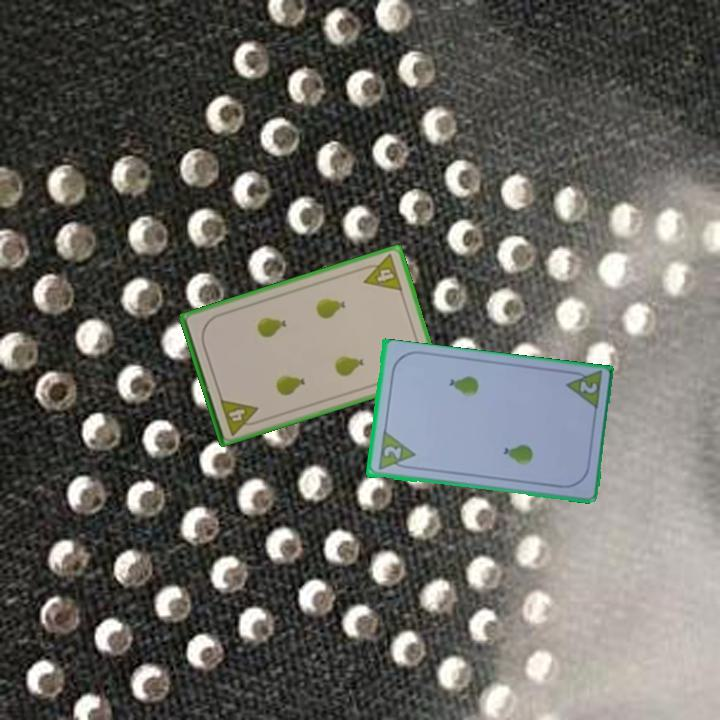2p: (561, 367, 605, 414), (380, 443, 404, 462)
4p: (356, 251, 405, 294), (216, 395, 264, 438)
